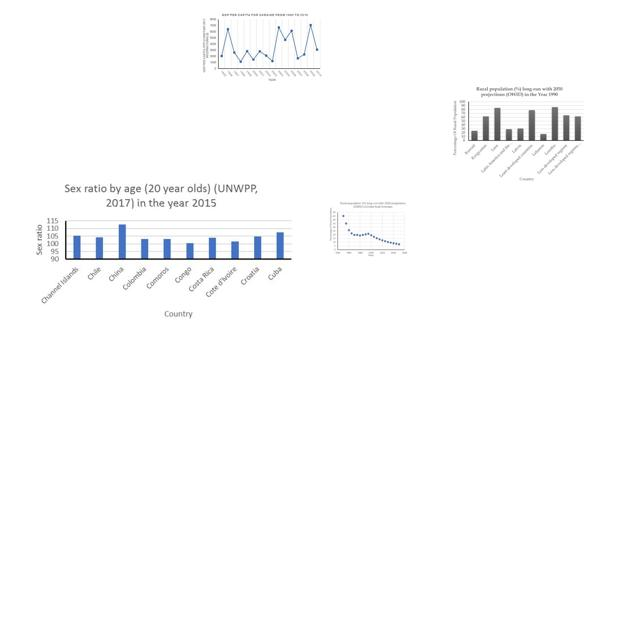Graph: (28, 175, 297, 327), (451, 85, 585, 182), (201, 12, 322, 82), (328, 201, 409, 258)
